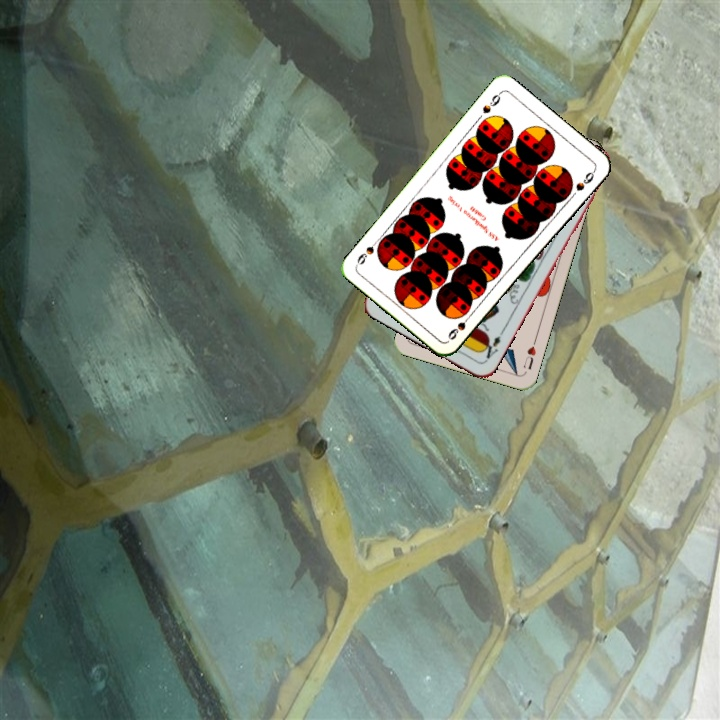EA: (477, 327, 506, 364)
HU: (519, 335, 539, 372)
S9: (444, 309, 475, 343), (478, 88, 504, 116)
